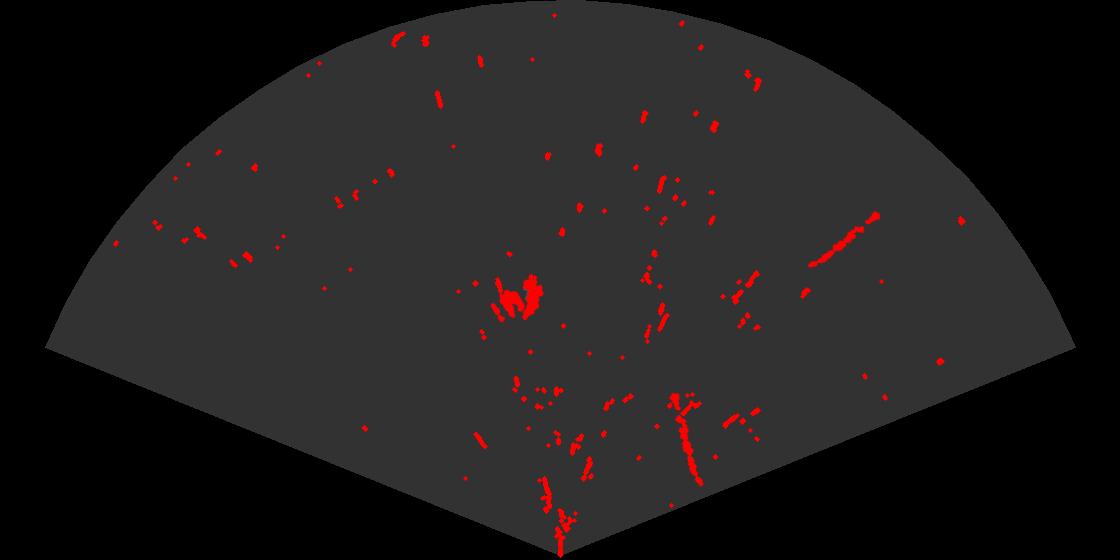AUV: (520, 272, 545, 322)
ball: (489, 288, 527, 324)
chain: (806, 205, 889, 269), (668, 390, 705, 488)
